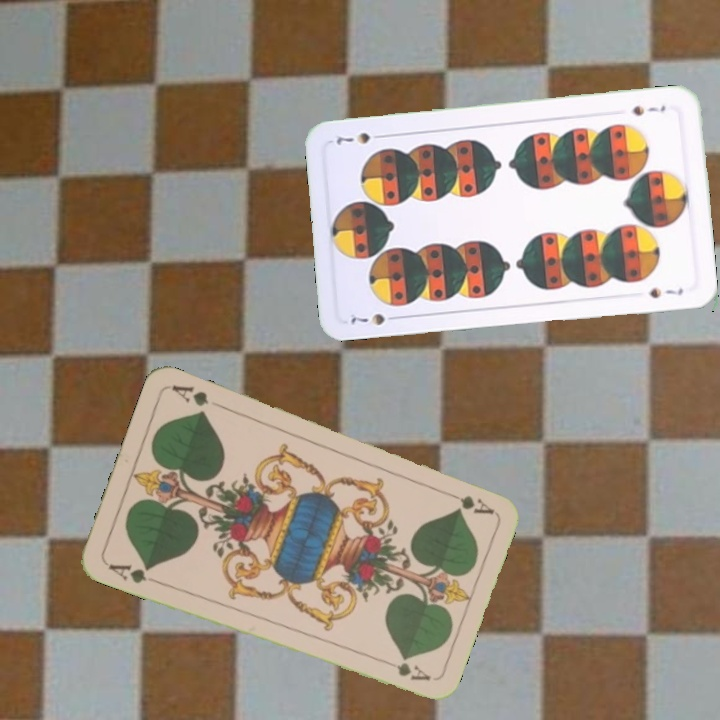GA: (439, 487, 496, 517), (104, 559, 153, 586)
S7: (346, 309, 403, 328), (628, 101, 668, 119)
